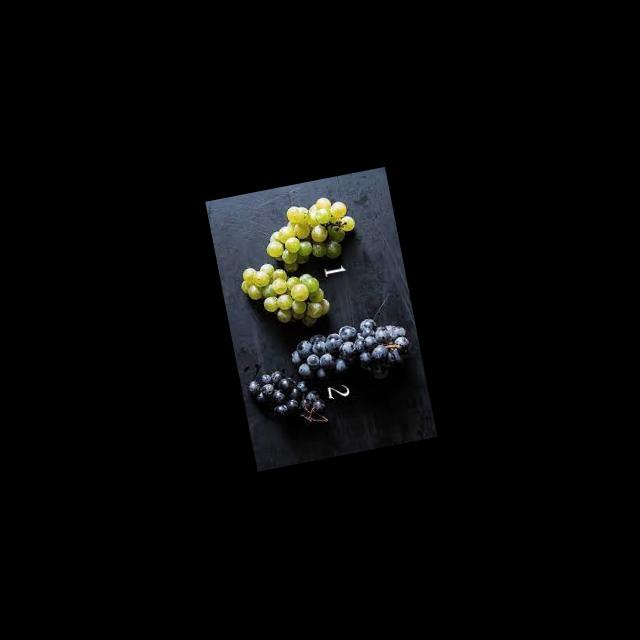grape: (258, 192, 362, 276), (236, 254, 333, 338)
